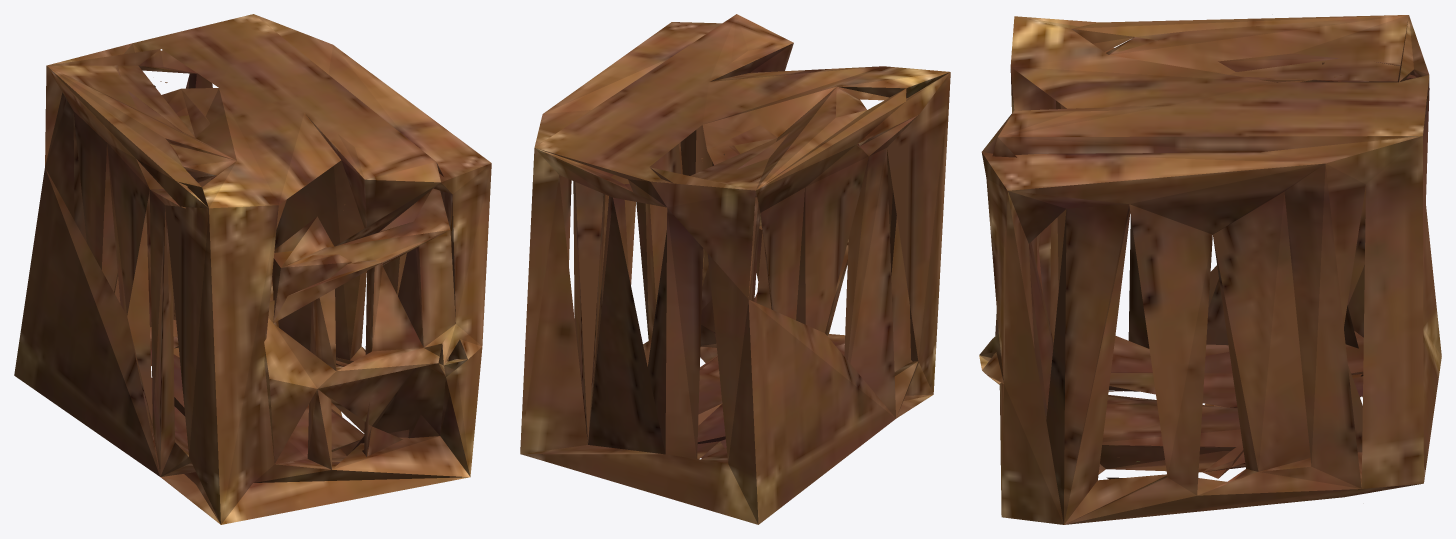
The model's file is cage.glb.
The picture shows the model from 3 angles, left to right: view 1: azimuth 30°, elevation 25°; view 2: azimuth 150°, elevation 25°; view 3: azimuth 270°, elevation 25°; orthographic projection. The views are drawn at different scales.
Visible parts, largest first — view 1: cage; view 2: cage; view 3: cage.
Boxes of the visible parts, bbox=[...] form: cage: bbox=[14, 14, 491, 524]; cage: bbox=[520, 14, 950, 524]; cage: bbox=[979, 15, 1441, 524].
Bounding box in the file's own units: 1.83 × 2.1 × 2.34.
Materials: 1 (1 with a texture image).
